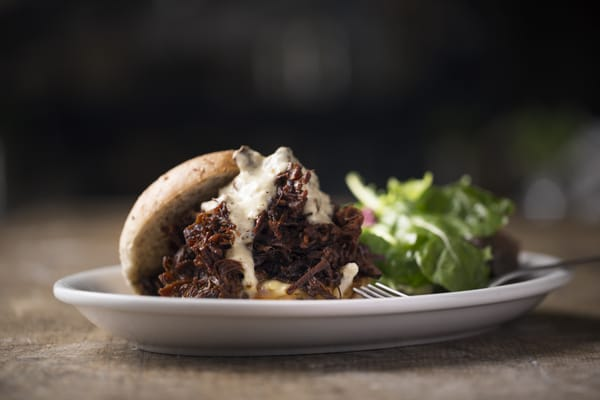curry: (344, 170, 520, 293)
pasta: (118, 146, 249, 294)
sushi: (54, 263, 575, 356)
